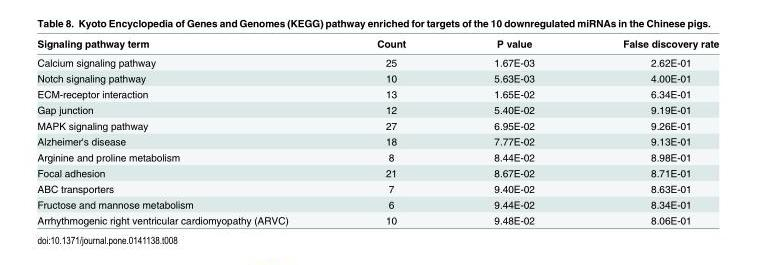table: (36, 37, 718, 225)
table column: (36, 37, 331, 225), (578, 37, 718, 225), (449, 37, 578, 225), (331, 37, 449, 225)
table column header: (36, 37, 718, 52)
table row: (36, 52, 718, 70), (36, 85, 718, 101), (36, 101, 718, 117), (36, 117, 718, 133), (36, 148, 718, 164), (36, 164, 718, 180), (36, 180, 718, 196), (36, 196, 718, 212), (36, 37, 718, 52), (36, 70, 718, 85), (36, 133, 718, 148), (36, 212, 718, 225)
